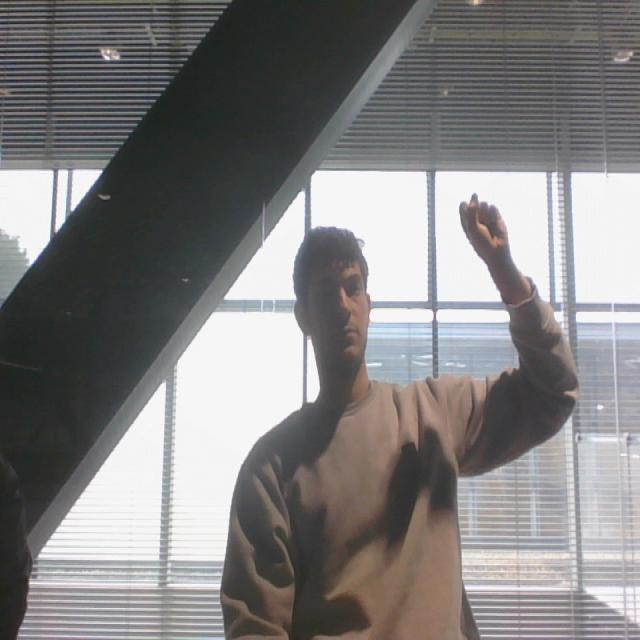stop: (453, 189, 512, 263)
